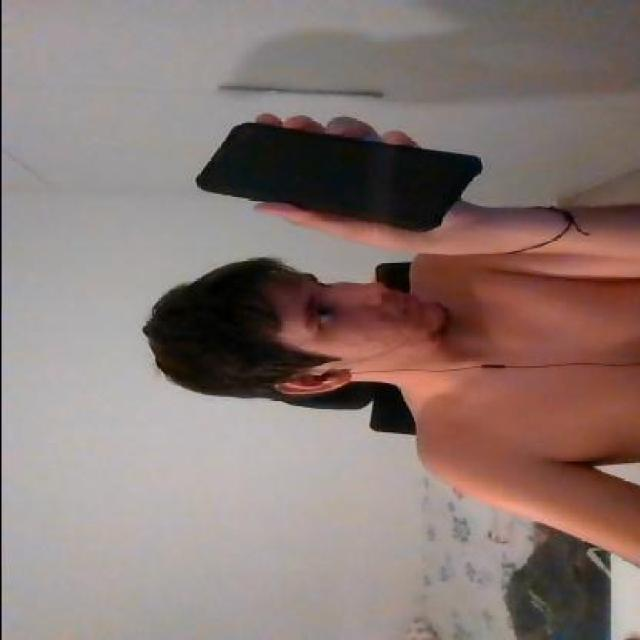cellphone: (194, 117, 477, 231)
